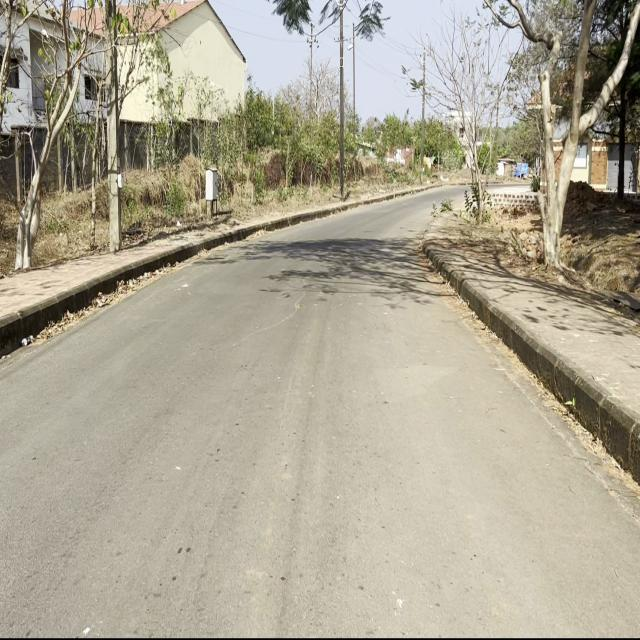Road: (3, 206, 637, 632)
